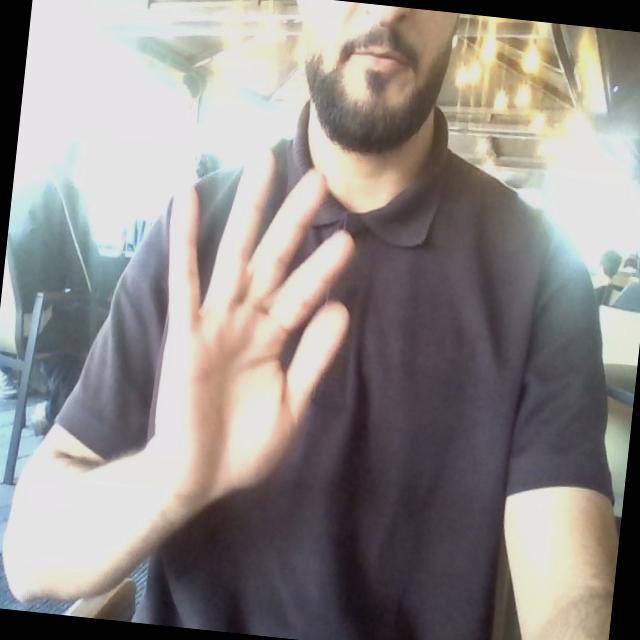Hand: (148, 153, 352, 503)
